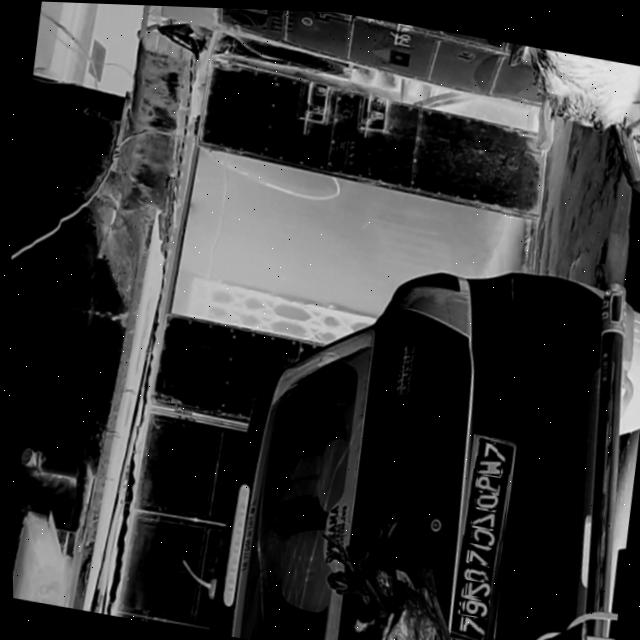0: (472, 488, 498, 506)
2: (463, 576, 490, 596)
6: (461, 594, 487, 614)
7: (458, 611, 486, 634), (469, 504, 495, 525)
8: (466, 559, 492, 578)
C: (469, 523, 494, 543)
E: (466, 540, 492, 561)
IND: (473, 437, 497, 456)
Indian_registered: (448, 431, 514, 637)
M: (475, 453, 500, 472)
P: (474, 470, 498, 489)
